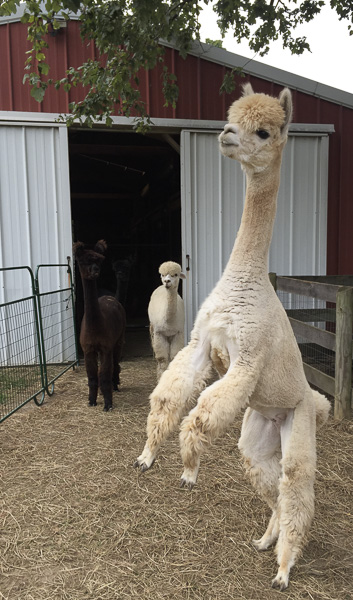alpaca: (132, 80, 332, 589), (69, 239, 124, 413), (147, 259, 186, 389)
